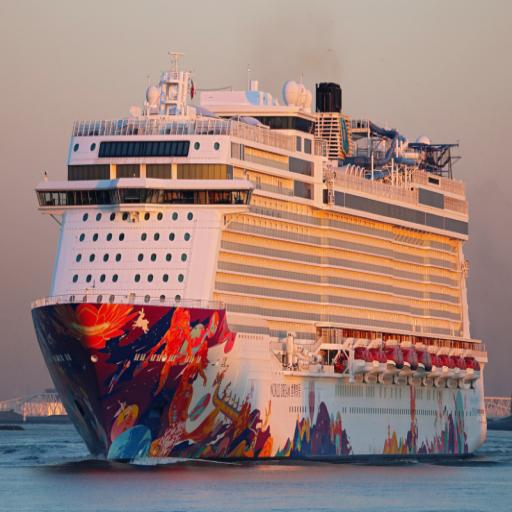cruises: (30, 49, 498, 467)
